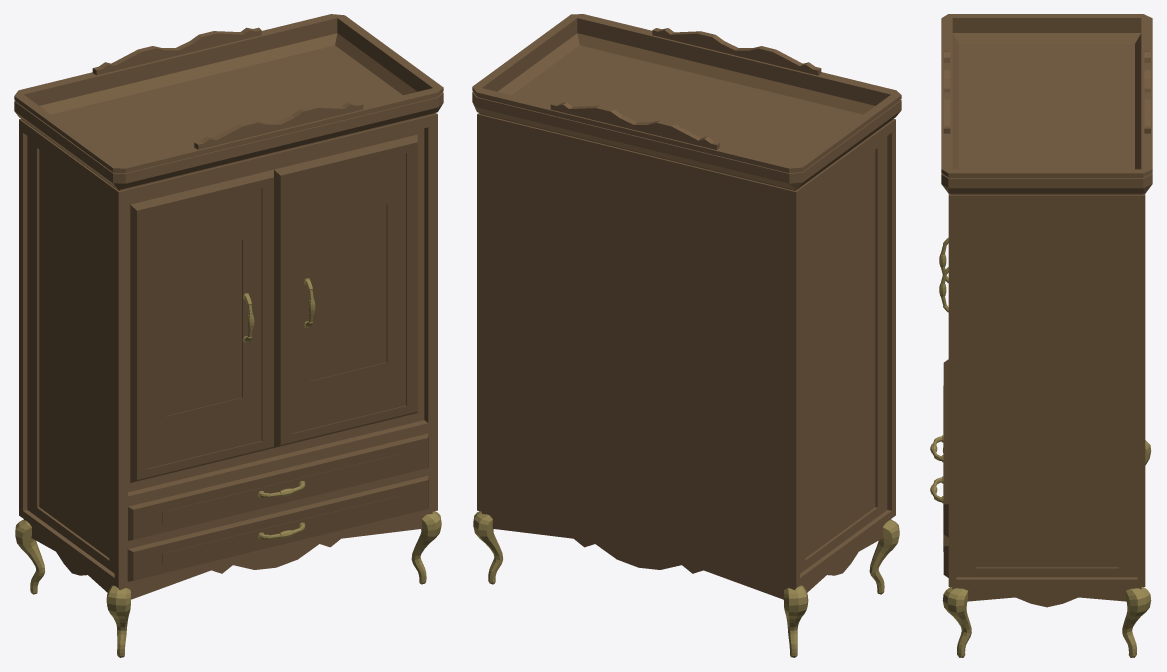
Rendered from ShortCloset.glb.
3 renders of one model, left to right at view 1: azimuth 30°, elevation 25°; view 2: azimuth 150°, elevation 25°; view 3: azimuth 270°, elevation 25°, orthographic.
Visible parts, largest first — view 1: ShortCloset, ShortCloset_RightDoor, ShortCloset_LeftDoor, ShortCloset_TopDrawer, ShortCloset_BottomDrawer; view 2: ShortCloset; view 3: ShortCloset, ShortCloset_TopDrawer, ShortCloset_BottomDrawer.
Boxes of the visible parts, x1,y1,x2,y2 form: ShortCloset: (14,14,443,657); ShortCloset_RightDoor: (274,134,417,447); ShortCloset_LeftDoor: (130,169,273,482); ShortCloset_TopDrawer: (128,433,428,540); ShortCloset_BottomDrawer: (127,475,428,581); ShortCloset: (472,14,901,657); ShortCloset: (941,14,1152,657); ShortCloset_TopDrawer: (930,359,948,537); ShortCloset_BottomDrawer: (930,476,948,577).
Size of the model in its own units: 1.55 by 2.27 by 0.9068.
